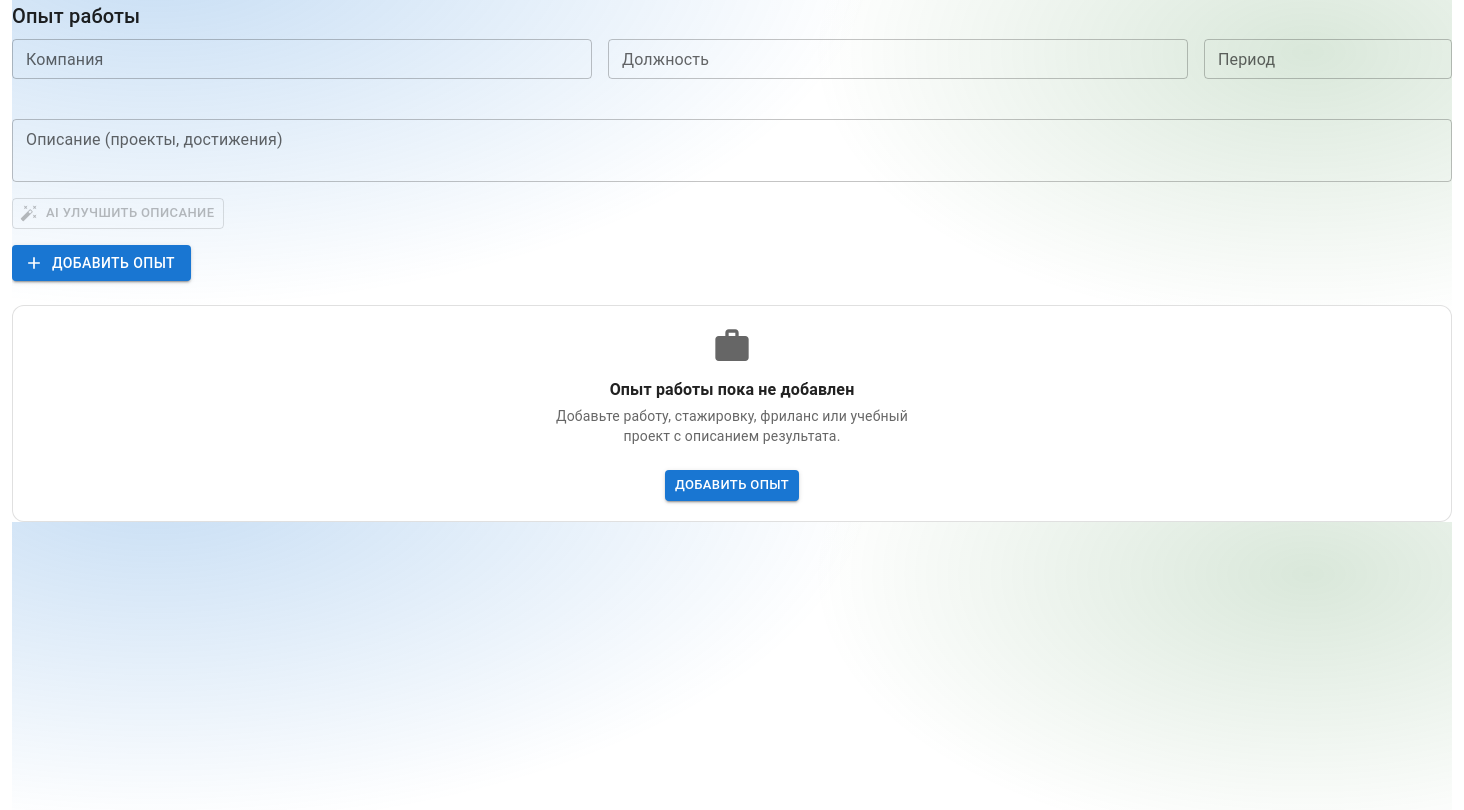
ExperienceBlock form validation › empty company shows inline error
Click the button "Добавить опыт" below "Описание (проекты, достижения)". click: (102, 263)
box: [12, 245, 191, 281]
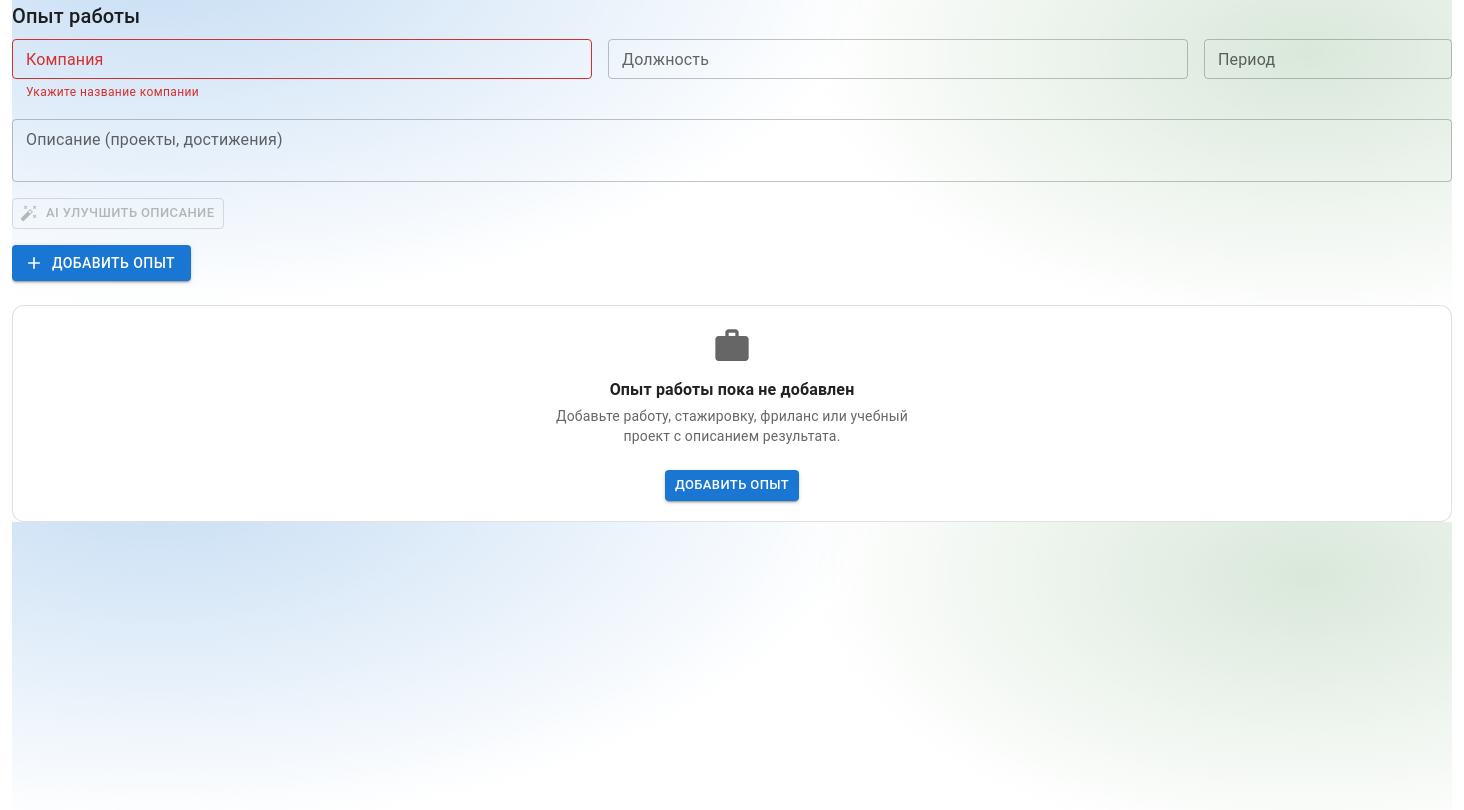
Check: the text "Укажите название компании" is shown, box [26, 85, 199, 99]
